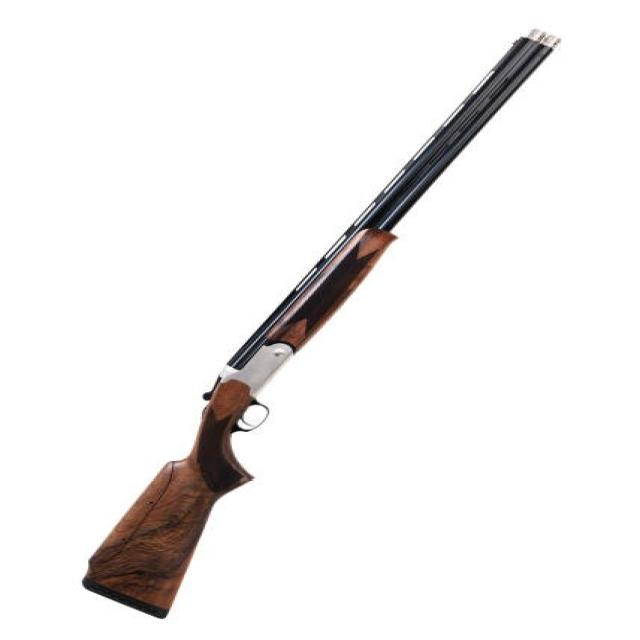rifle: (73, 18, 576, 627)
